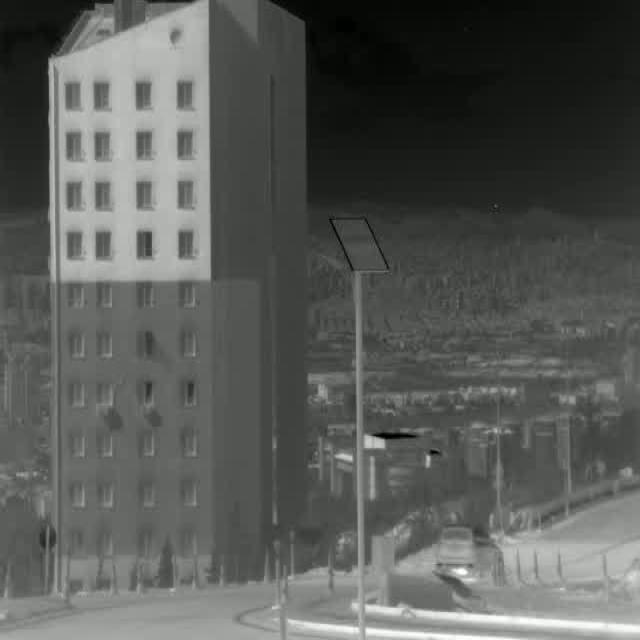Car: (432, 519, 504, 581)
